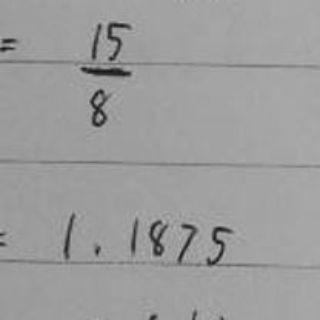.: (90, 243, 105, 260)
1: (62, 210, 78, 260), (90, 21, 104, 60), (128, 215, 141, 256)
5: (205, 224, 235, 266), (105, 20, 134, 62)
7: (176, 223, 200, 264)
8: (88, 87, 113, 128), (147, 217, 168, 258)
